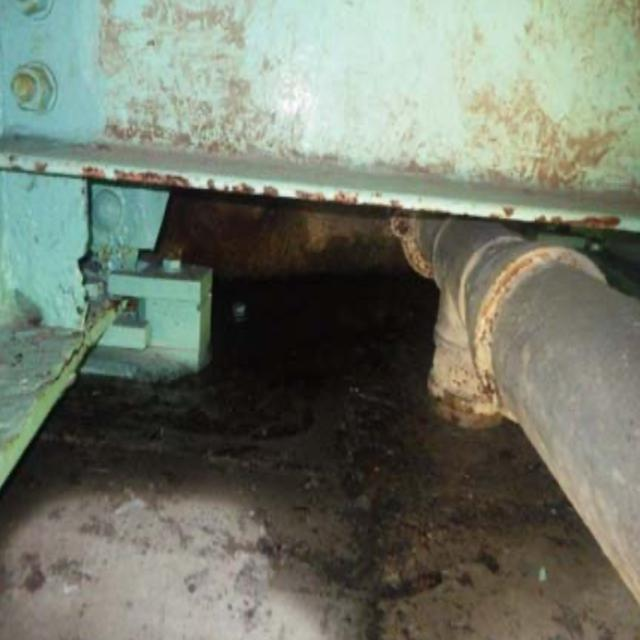corrosion: (80, 86, 601, 267)
